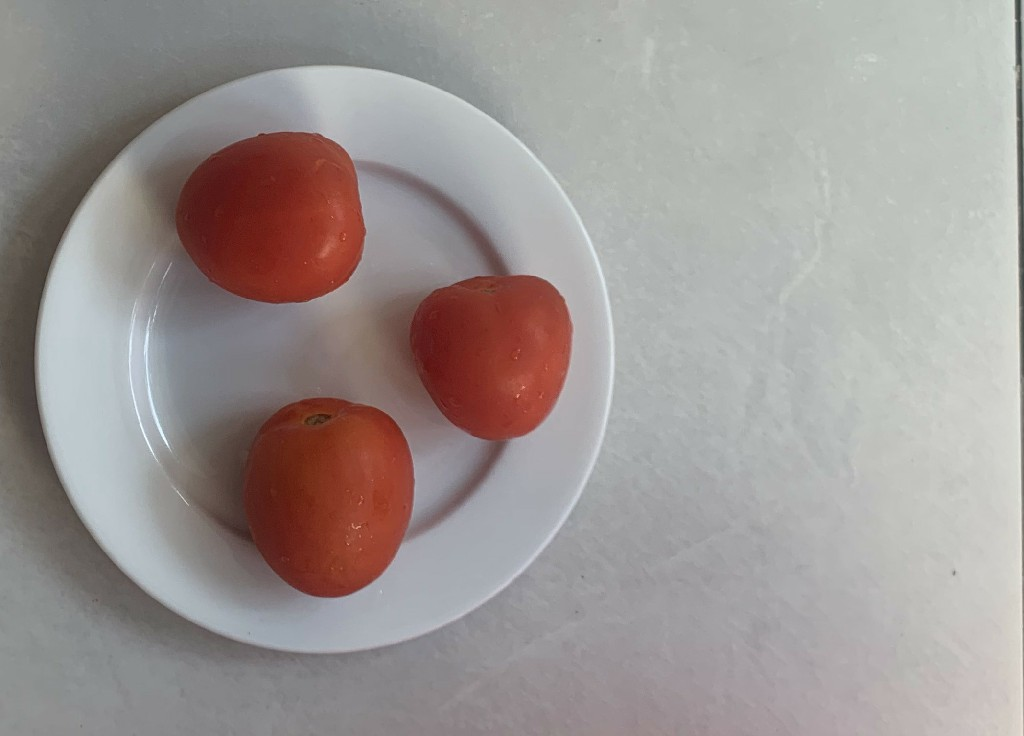OK: (233, 389, 420, 607), (174, 123, 370, 311), (412, 258, 574, 451)
